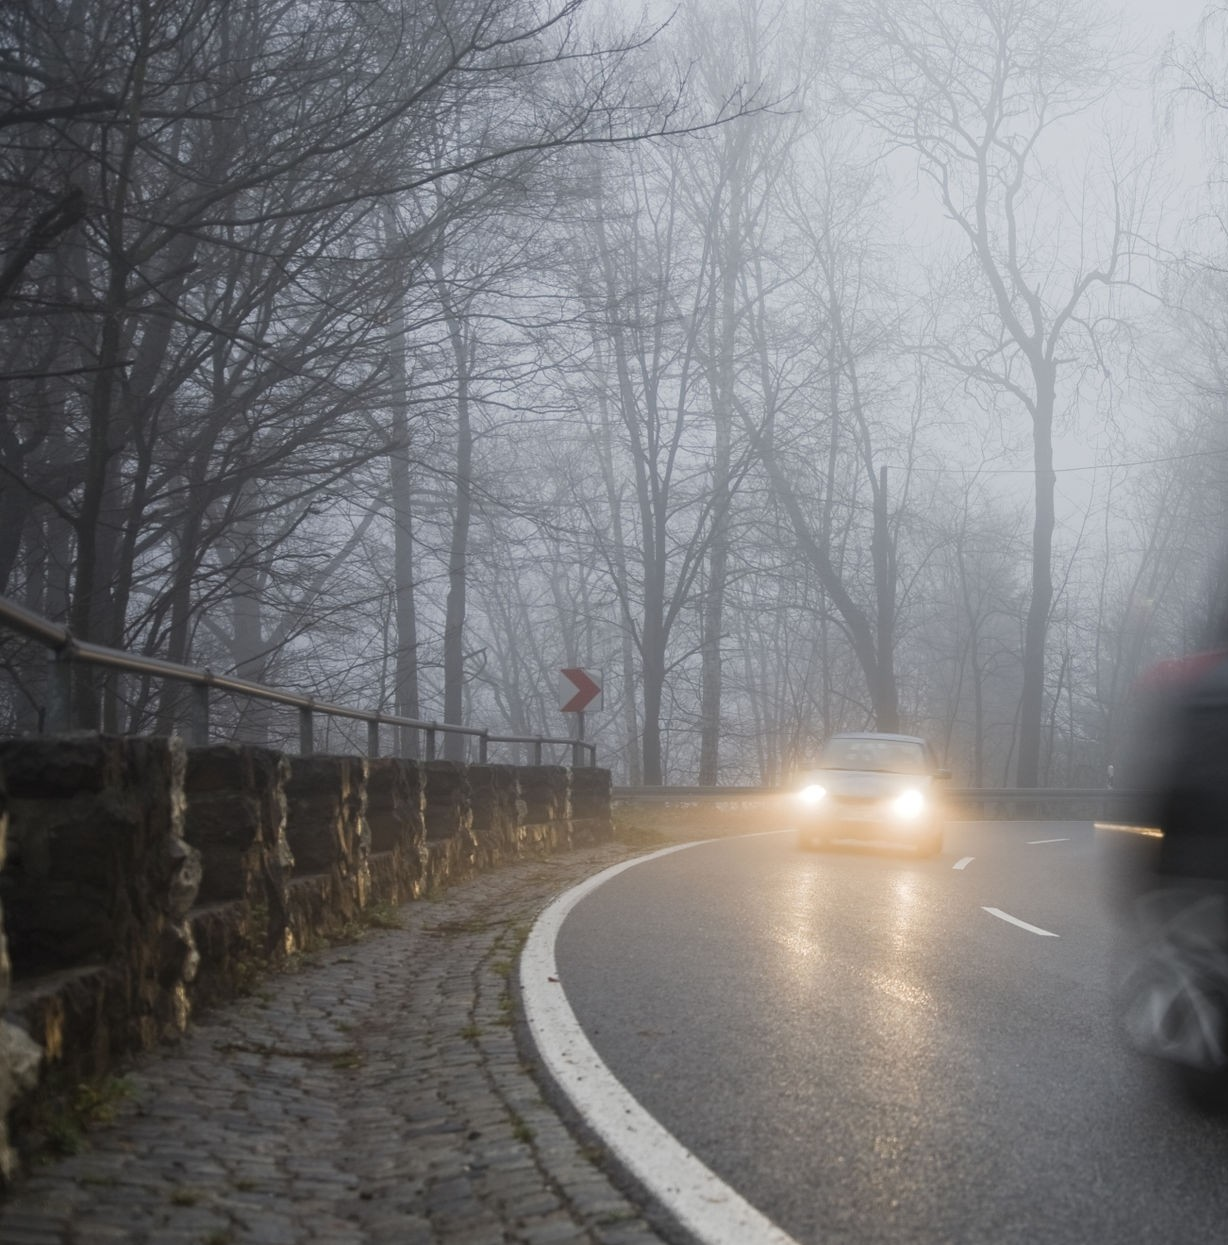car: (1101, 458, 1225, 1106), (800, 731, 945, 859)
